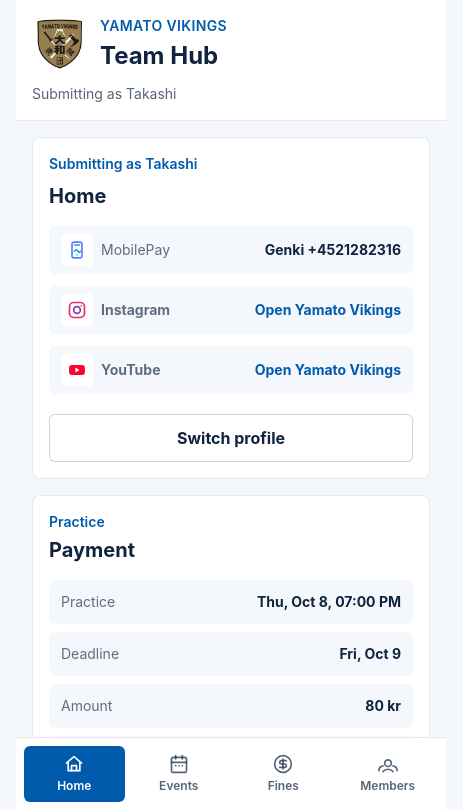
Test: App shell › hides cancelled events from regular members
The image size is (463, 810).
Click the link "Events".
click(179, 774)  # box [159,754,198,793]
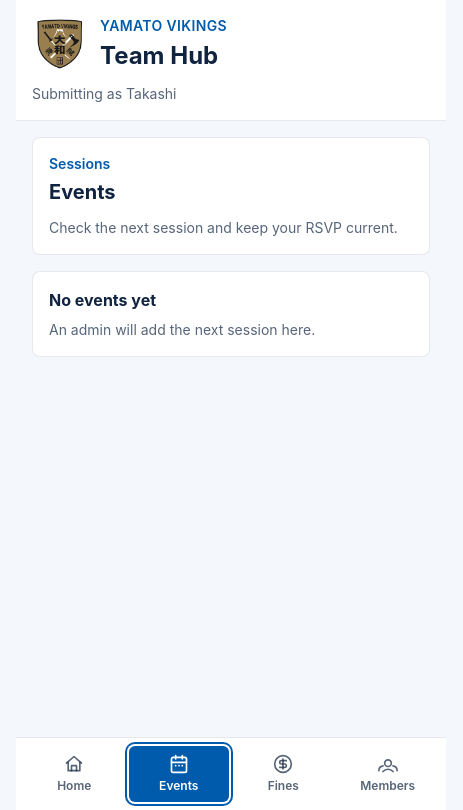
Result: the heading "Events" is shown at [49,178,116,206]
Result: the text "An admin will add the next session here." is shown at [49,321,315,338]
